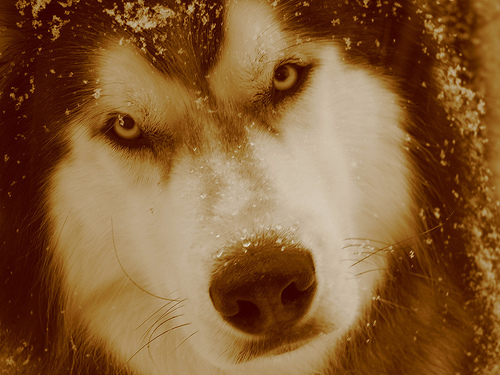dog: (1, 1, 499, 374)
